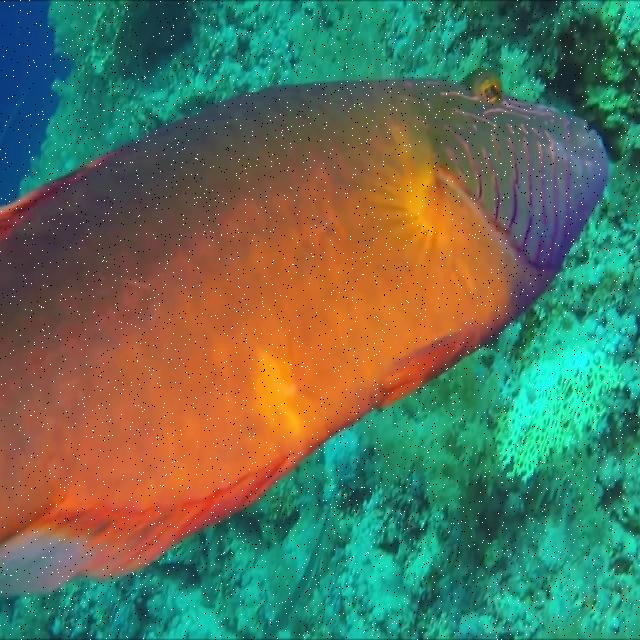fish: (0, 67, 609, 598)
